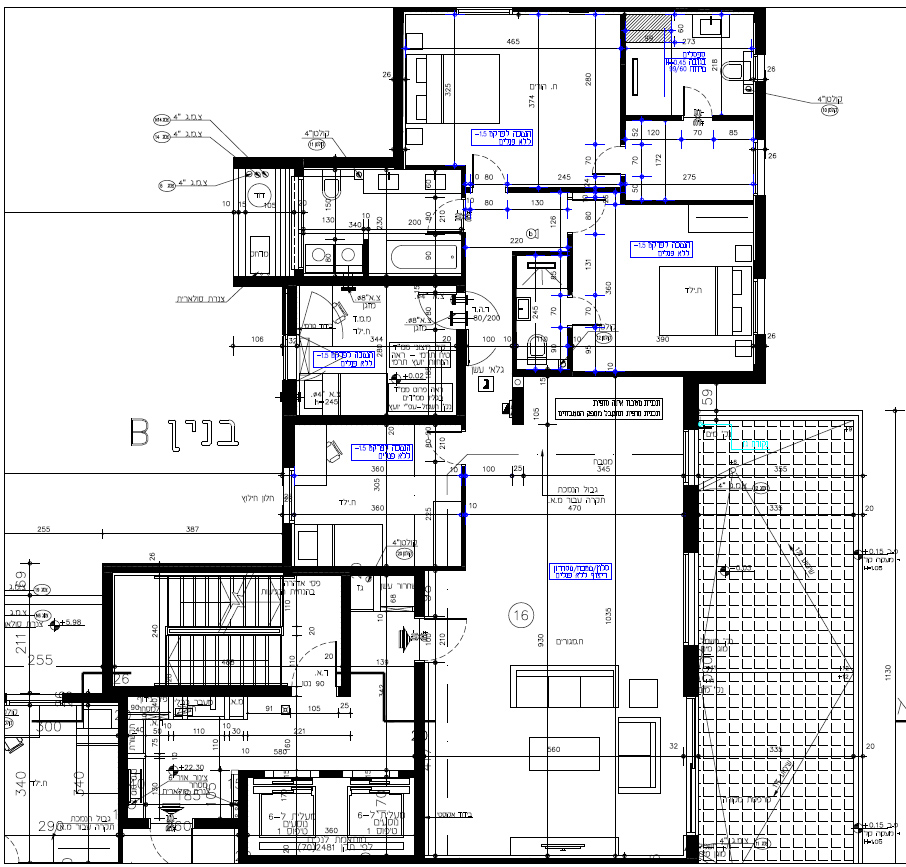wall: (234, 274, 467, 285), (283, 414, 466, 424), (234, 157, 403, 166), (684, 370, 765, 383)
window: (682, 695, 700, 835), (680, 551, 698, 645), (750, 278, 766, 333), (750, 138, 766, 193), (682, 430, 698, 484), (281, 335, 298, 380), (282, 466, 295, 524)
